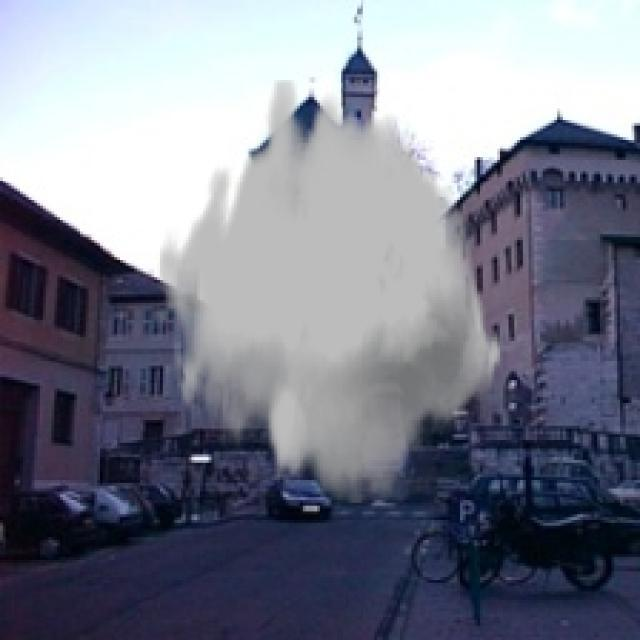Smoke: (157, 80, 503, 503)
